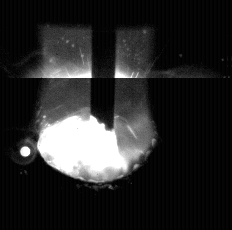arame: (92, 0, 115, 130)
poca: (37, 0, 155, 230)
